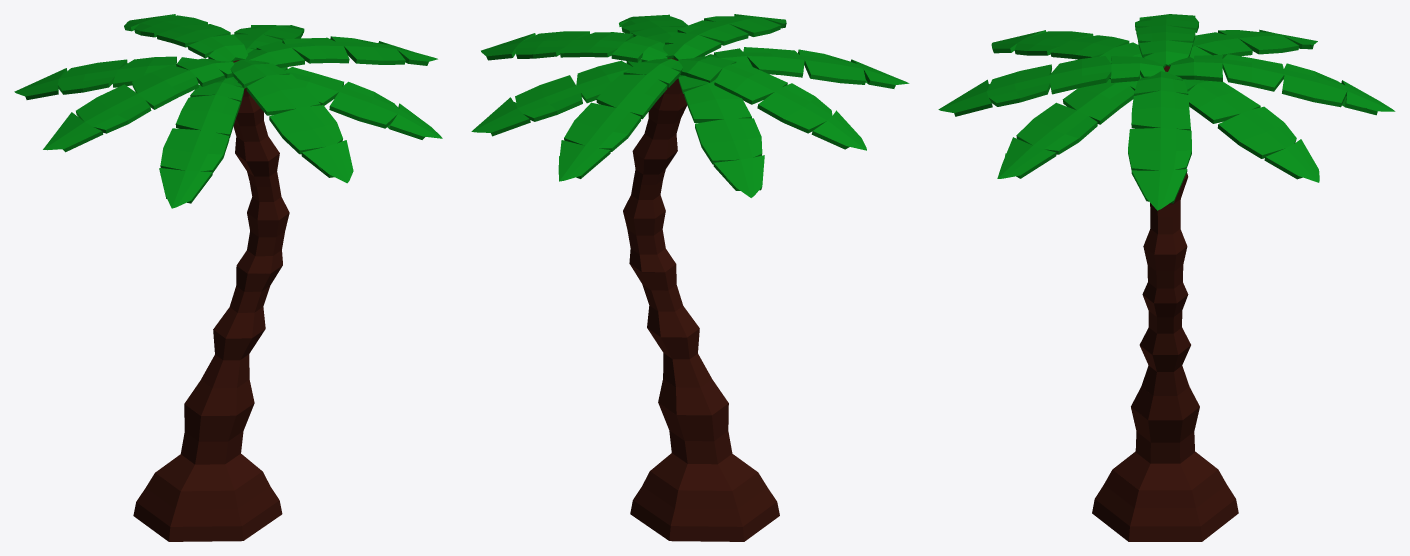
The model's file is PalmTree.obj.
3 renders of one model, left to right at view 1: azimuth 30°, elevation 25°; view 2: azimuth 150°, elevation 25°; view 3: azimuth 270°, elevation 25°, orthographic. The views are drawn at different scales.
Parts seen in each view (by area): view 1: Cylinder_Material.002, Plane.008_Material.001, Plane.002_Material.001, Plane_Material.001, Plane.010_Material.001, Plane.001_Material.001, Plane.006_Material.001, Plane.003_Material.001, Plane.009_Material.001; view 2: Cylinder_Material.002, Plane.003_Material.001, Plane_Material.001, Plane.006_Material.001, Plane.009_Material.001, Plane.001_Material.001, Plane.002_Material.001, Plane.008_Material.001, Plane.010_Material.001; view 3: Cylinder_Material.002, Plane.001_Material.001, Plane.009_Material.001, Plane.010_Material.001, Plane.008_Material.001, Plane.003_Material.001, Plane.002_Material.001, Plane_Material.001, Plane.006_Material.001.
Part boxes in pixels (<box>): Cylinder_Material.002: <box>133,60,289,541</box>; Plane.008_Material.001: <box>230,59,353,183</box>; Plane.002_Material.001: <box>159,77,244,208</box>; Plane_Material.001: <box>43,58,234,152</box>; Plane.010_Material.001: <box>231,67,442,139</box>; Plane.001_Material.001: <box>245,36,437,67</box>; Plane.006_Material.001: <box>14,56,197,99</box>; Plane.003_Material.001: <box>124,14,247,61</box>; Plane.009_Material.001: <box>233,25,304,53</box>; Cylinder_Material.002: <box>623,58,779,541</box>; Plane.003_Material.001: <box>558,58,682,181</box>; Plane_Material.001: <box>678,56,866,150</box>; Plane.006_Material.001: <box>678,75,764,197</box>; Plane.009_Material.001: <box>471,58,678,136</box>; Plane.001_Material.001: <box>481,31,667,62</box>; Plane.002_Material.001: <box>705,47,909,88</box>; Plane.008_Material.001: <box>663,14,786,60</box>; Plane.010_Material.001: <box>619,14,704,56</box>; Cylinder_Material.002: <box>1092,66,1238,541</box>; Plane.001_Material.001: <box>1128,71,1191,210</box>; Plane.009_Material.001: <box>1182,79,1319,182</box>; Plane.010_Material.001: <box>997,75,1141,178</box>; Plane.008_Material.001: <box>938,56,1165,116</box>; Plane.003_Material.001: <box>1168,54,1395,115</box>; Plane.002_Material.001: <box>991,30,1142,63</box>; Plane_Material.001: <box>1135,14,1198,66</box>; Plane.006_Material.001: <box>1189,29,1317,58</box>.
Bounding box in the file's own units: 0.5566 × 0.6154 × 0.5472.
